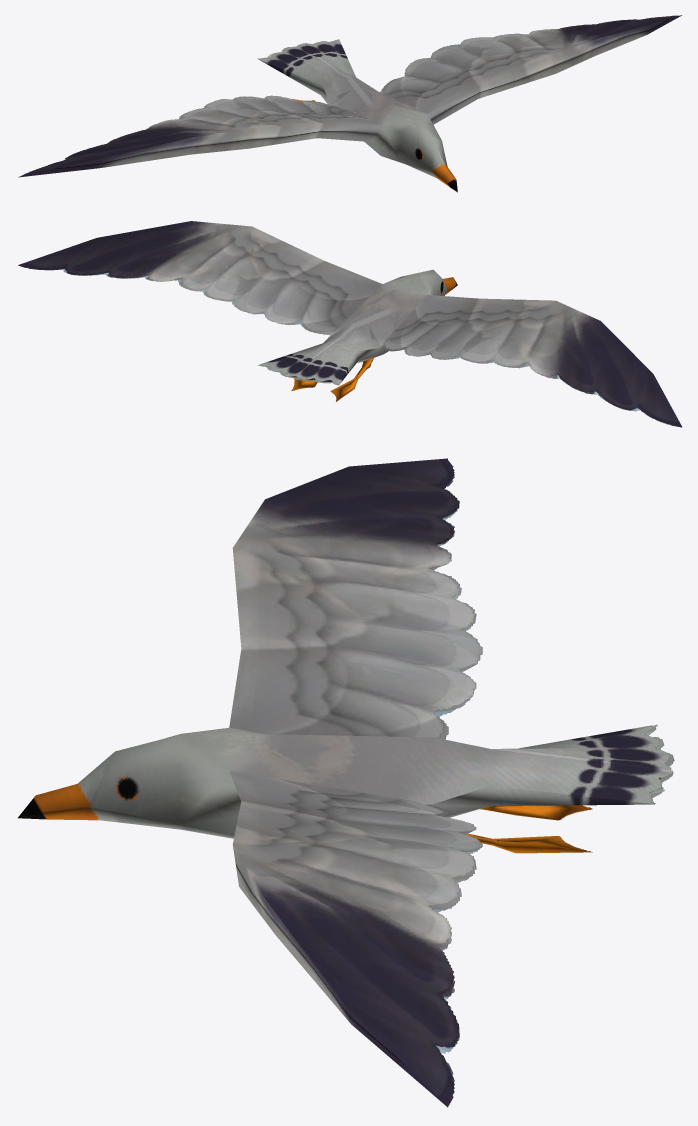
Rendered from Seagull.fbx.
3 views of the same model, one above another, from view 1: azimuth 30°, elevation 25°; view 2: azimuth 150°, elevation 25°; view 3: azimuth 270°, elevation 25° (orthographic). The views are drawn at different scales.
Parts seen in each view (by area): view 1: Obj_Seagull__Seagull_m; view 2: Obj_Seagull__Seagull_m; view 3: Obj_Seagull__Seagull_m.
Boxes of the visible parts, x1,y1,x2,y2 form: Obj_Seagull__Seagull_m: [18, 15, 681, 192]; Obj_Seagull__Seagull_m: [18, 221, 682, 427]; Obj_Seagull__Seagull_m: [17, 458, 674, 1107].
Bounding box in the file's own units: 3142 × 322 × 1347.
